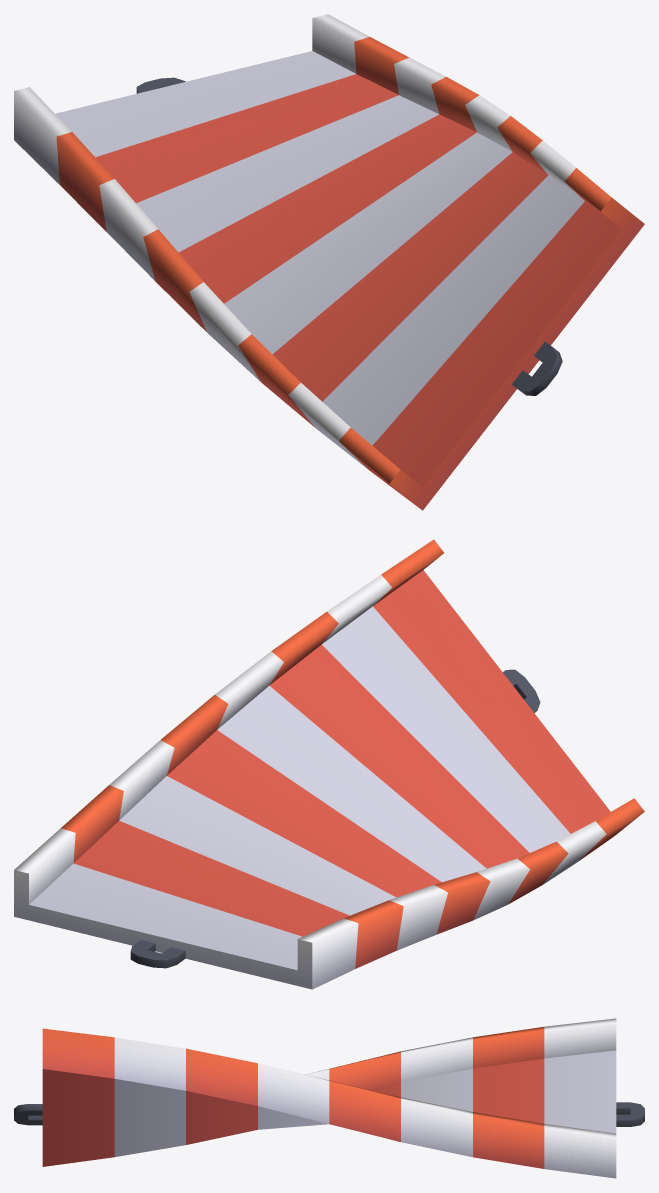
The model's file is track-striped-wide-straight-skew-right.glb.
The picture shows the model from 3 angles, top to bottom: view 1: azimuth 30°, elevation 25°; view 2: azimuth 150°, elevation 25°; view 3: azimuth 270°, elevation 25°; orthographic projection. The views are drawn at different scales.
Parts seen in each view (by area): view 1: track-striped-wide-straight-skew-right; view 2: track-striped-wide-straight-skew-right; view 3: track-striped-wide-straight-skew-right.
Boxes of the visible parts, x1=… form: track-striped-wide-straight-skew-right: x1=14, y1=14, x2=644, y2=510; track-striped-wide-straight-skew-right: x1=14, y1=539, x2=644, y2=989; track-striped-wide-straight-skew-right: x1=14, y1=1018, x2=644, y2=1178.
Bounding box in the file's own units: 2.04 × 1.63 × 4.4.
1 material, 1 textured.
